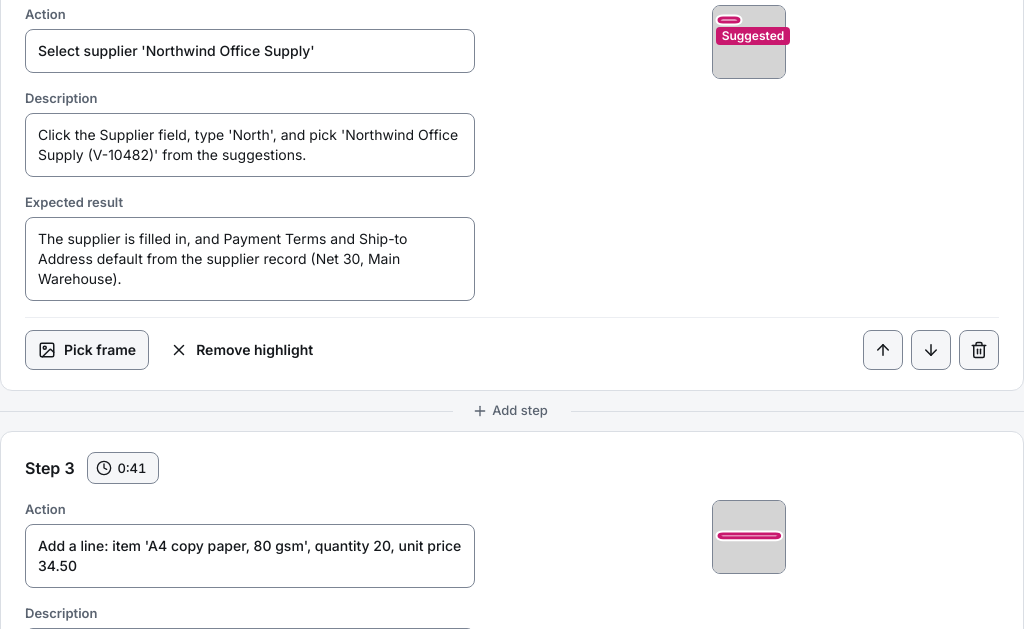
Scenario: StepList › Undo restores the step in place and focuses its heading
(page scrolled)
Click the button named "Delete step 2".
click(979, 350)  # box left=959, top=330, right=999, bottom=370
(page scrolled)
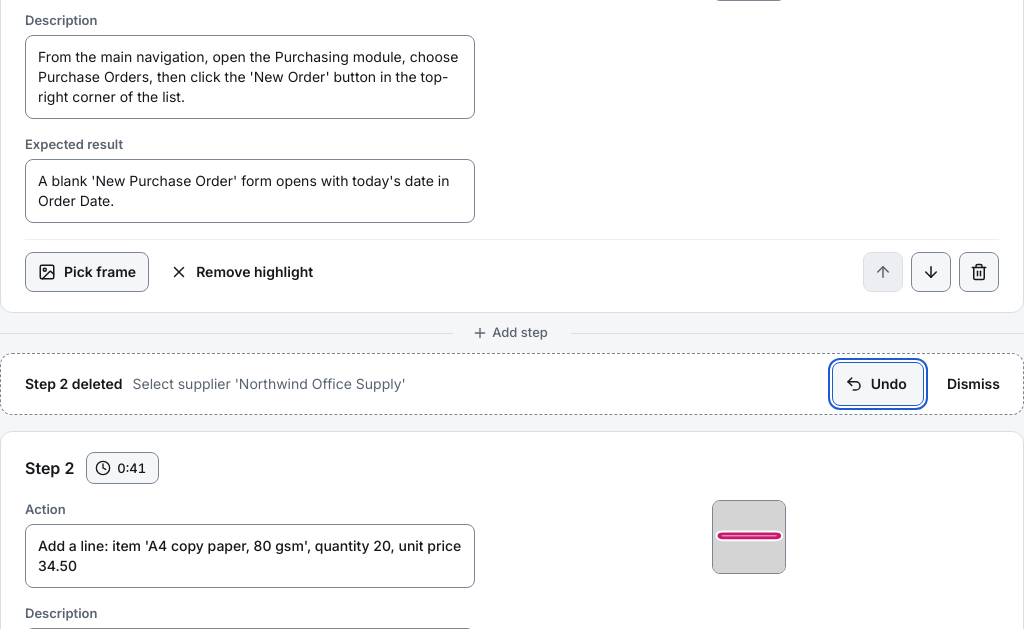
Press Enter
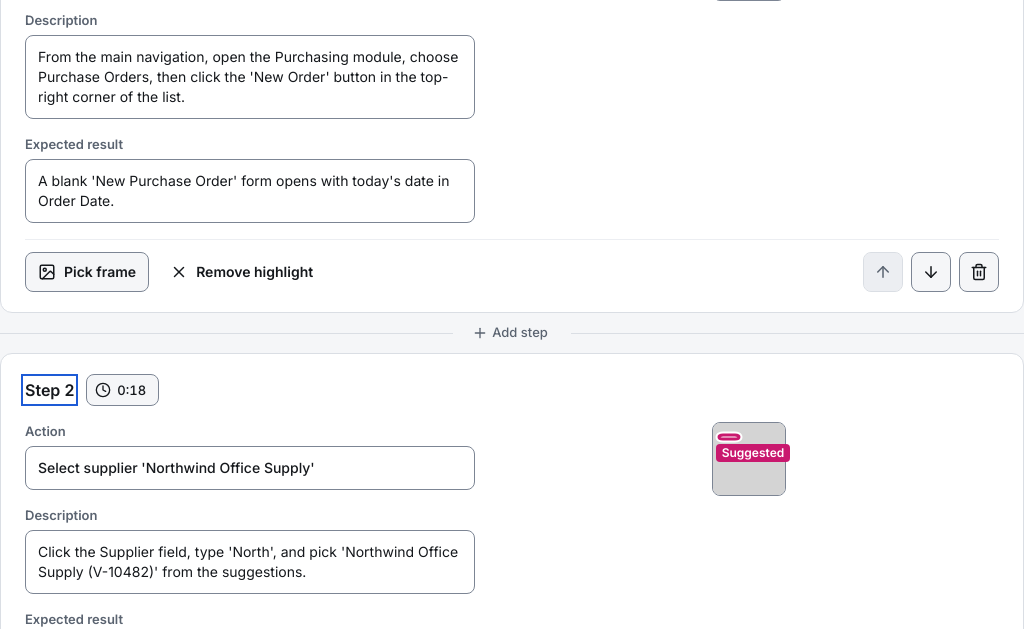
Expected: the text "Step 2 deleted" is gone
